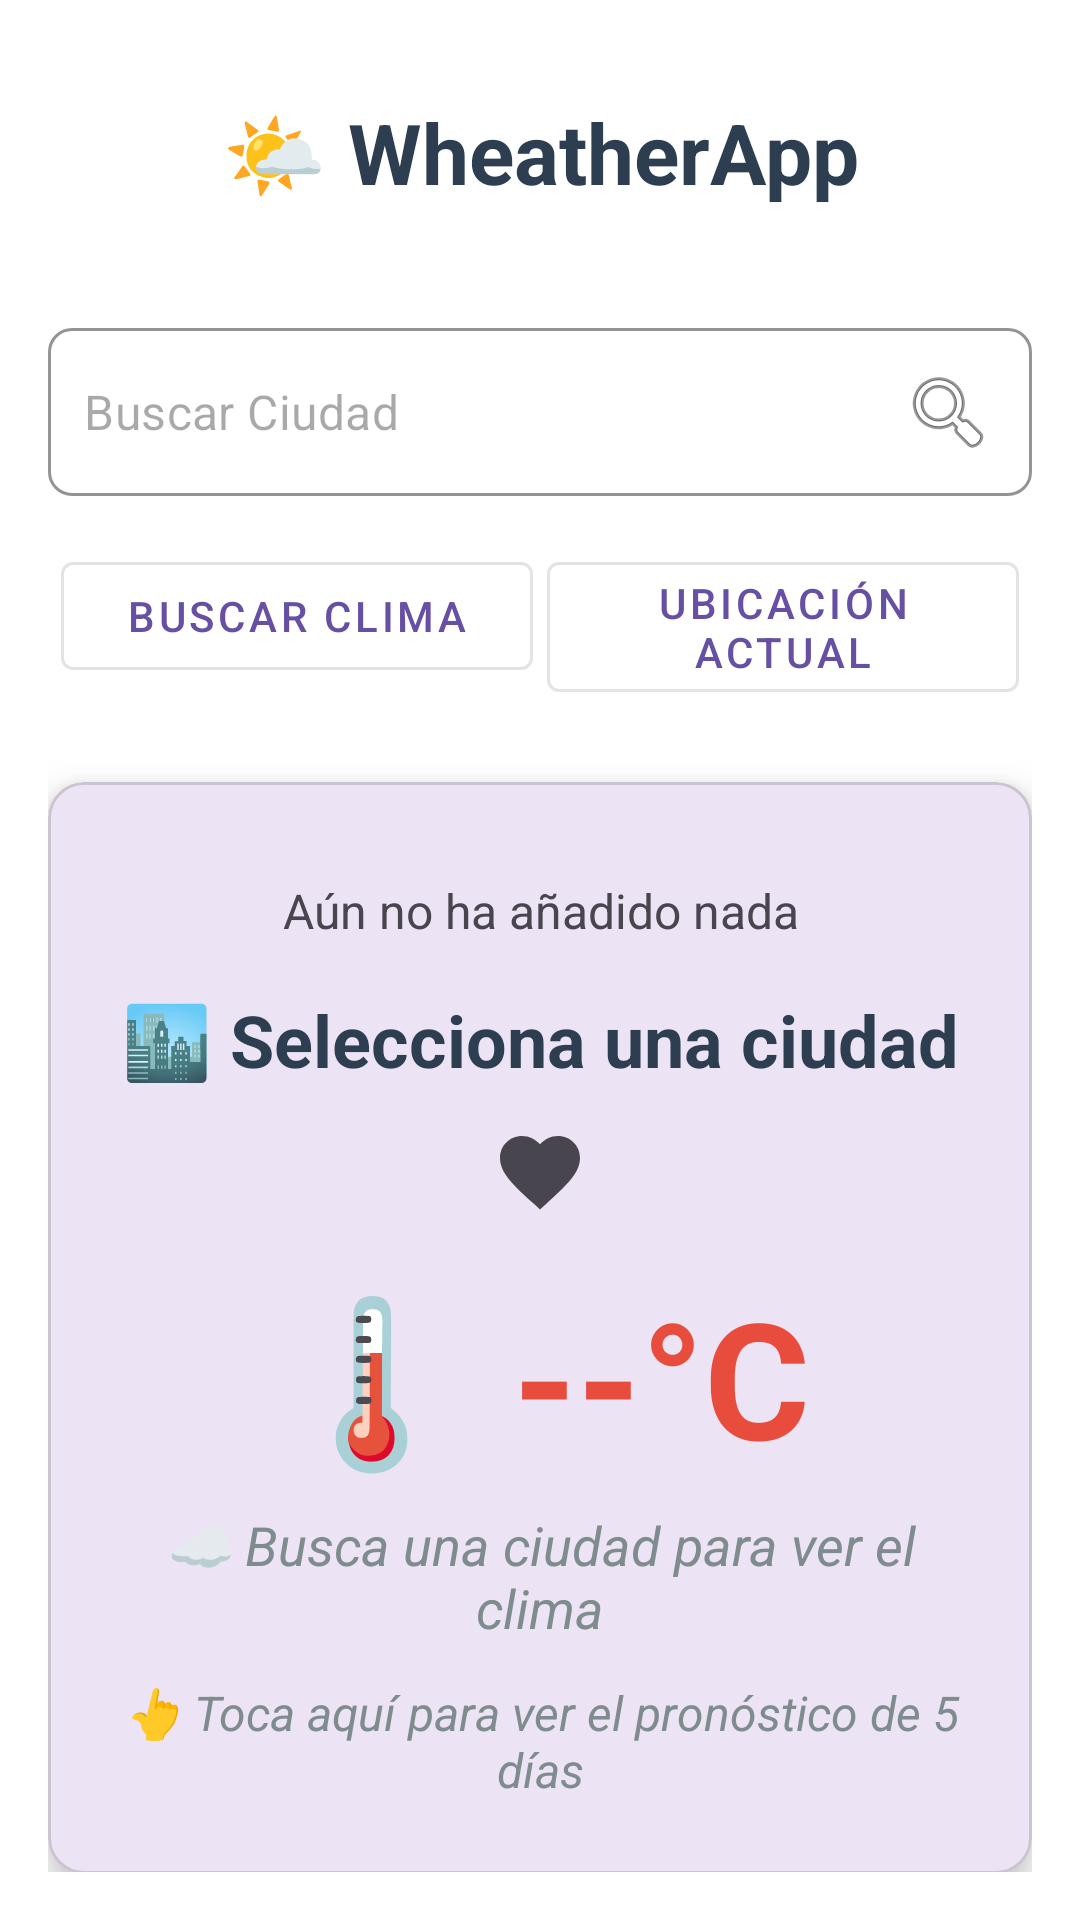

Icon bounding boxes for this 1080 x 1920 phone screenshot, format (x1, y1, x2, y2):
Marcar como favorito: (500, 1136, 580, 1209)
